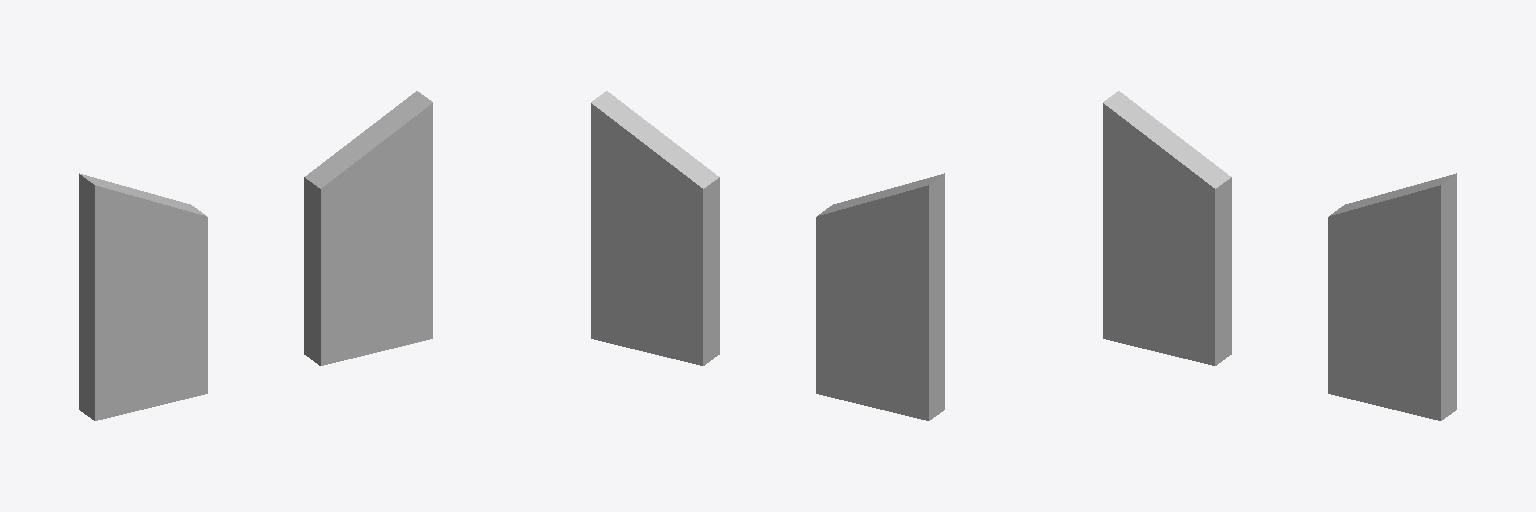
Rendered from construct_eyes_angry.obj.
3 views of the same model, side by side, from view 1: azimuth 30°, elevation 25°; view 2: azimuth 150°, elevation 25°; view 3: azimuth 330°, elevation 25° (orthographic).
Parts seen in each view (by area): view 1: EYES_ANGRY_Cube.033; view 2: EYES_ANGRY_Cube.033; view 3: EYES_ANGRY_Cube.033.
Boxes of the visible parts, <box> form: EYES_ANGRY_Cube.033: <box>79,91,432,420</box>; EYES_ANGRY_Cube.033: <box>591,91,944,420</box>; EYES_ANGRY_Cube.033: <box>1103,91,1456,420</box>.
Size of the model in its own units: 0.1875 by 0.125 by 0.0156.